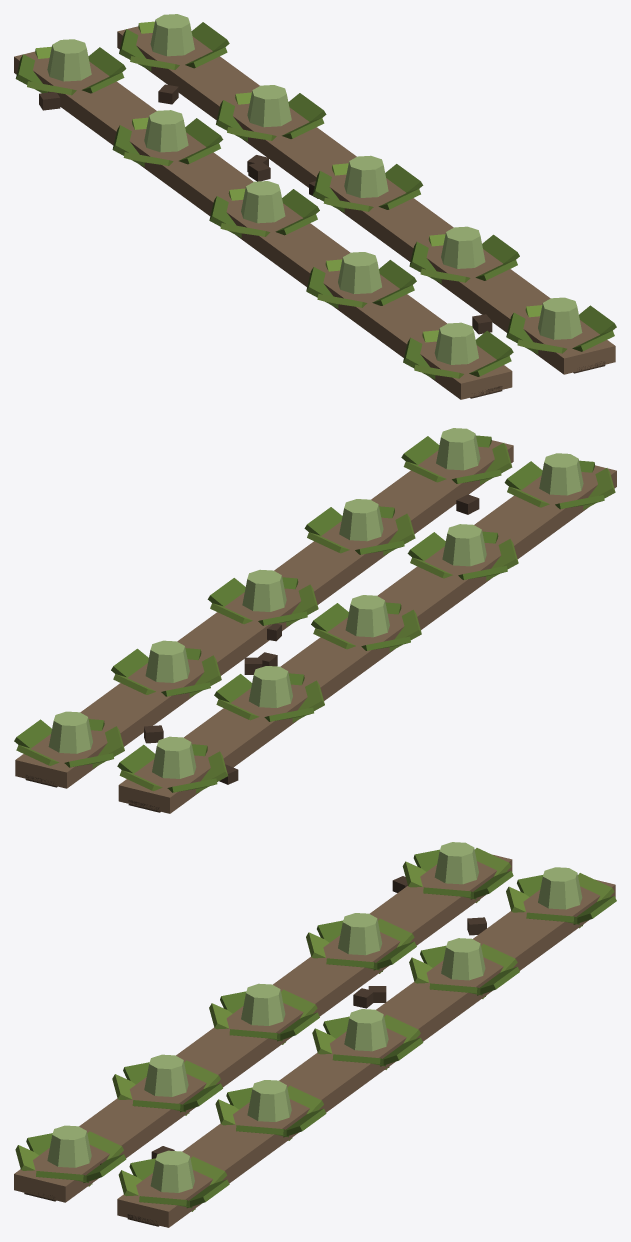
The model's file is crop_cabbage_3.glb.
The picture shows the model from 3 angles, top to bottom: view 1: azimuth 30°, elevation 25°; view 2: azimuth 150°, elevation 25°; view 3: azimuth 330°, elevation 25°; orthographic projection.
Parts seen in each view (by area): view 1: room_crop_cabbage_3; view 2: room_crop_cabbage_3; view 3: room_crop_cabbage_3.
Boxes of the visible parts, left/top/right/bottom form: room_crop_cabbage_3: left=14, top=14, right=616, bottom=399; room_crop_cabbage_3: left=14, top=428, right=616, bottom=813; room_crop_cabbage_3: left=14, top=842, right=616, bottom=1227.
Bounding box in the file's own units: 0.7622 × 0.1769 × 3.
